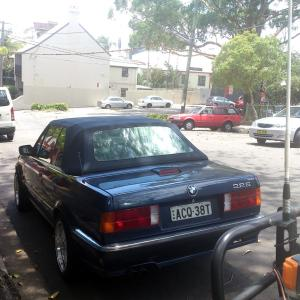Vehicle-registration-plate: (170, 208, 219, 232), (258, 131, 268, 135)
